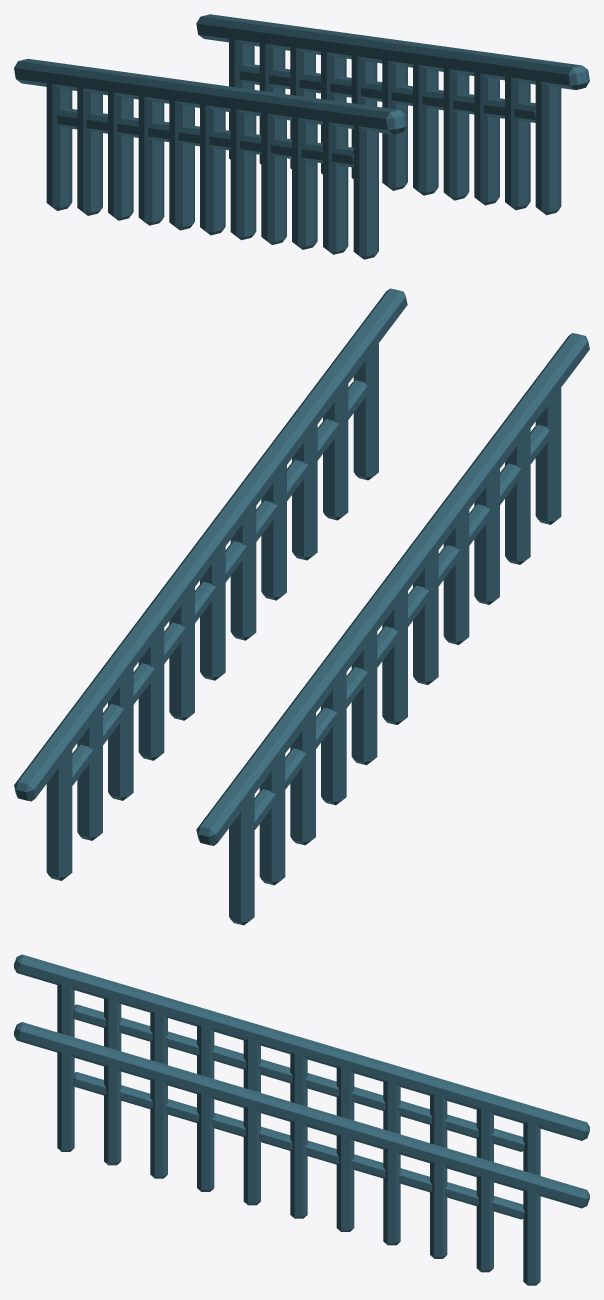
File: Step_handle.fbx
3 renders of one model, top to bottom at view 1: azimuth 30°, elevation 25°; view 2: azimuth 150°, elevation 25°; view 3: azimuth 270°, elevation 25°, orthographic. The views are drawn at different scales.
Visible parts, largest first — view 1: Step_handle02, Step_handle01; view 2: Step_handle02, Step_handle01; view 3: Step_handle01, Step_handle02.
Part boxes in pixels (box(x1,y1,x2,y2)): Step_handle02: box(14, 58, 407, 259); Step_handle01: box(196, 14, 589, 215); Step_handle02: box(196, 333, 589, 925); Step_handle01: box(14, 288, 407, 880); Step_handle01: box(14, 1022, 589, 1285); Step_handle02: box(14, 954, 589, 1175).
Bounding box in the file's own units: 10.21 × 16.52 × 33.17.
